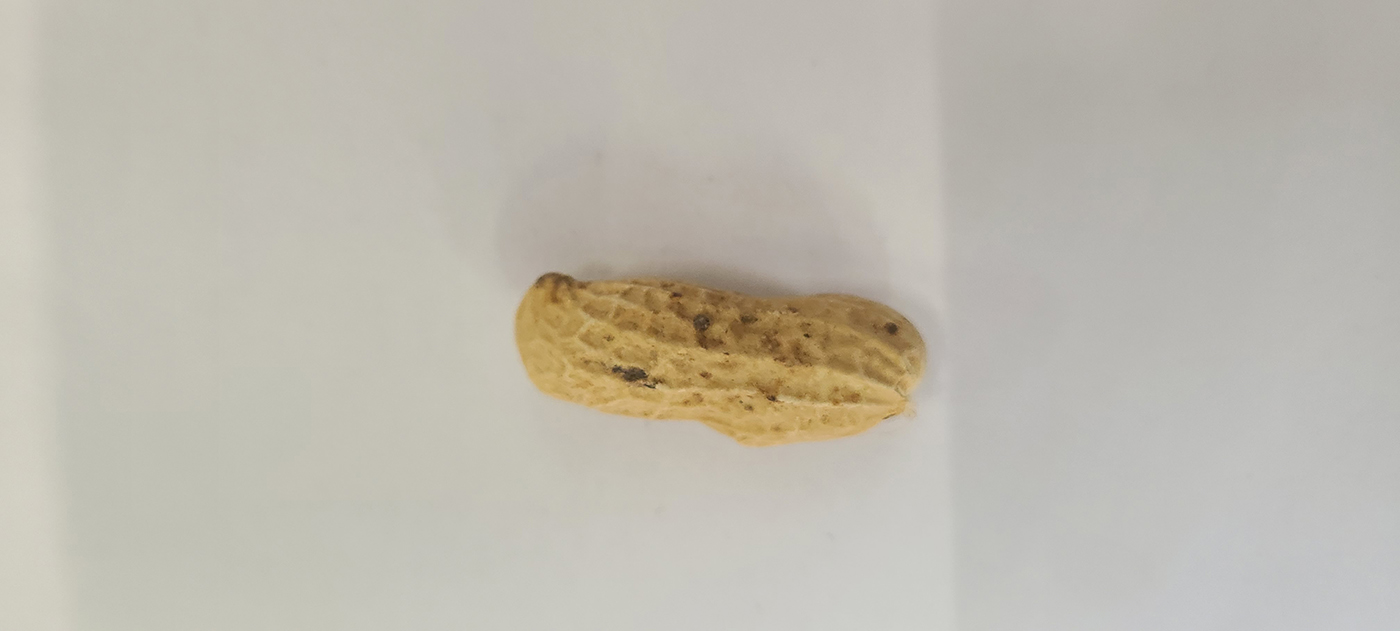h: (513, 269, 925, 450)
